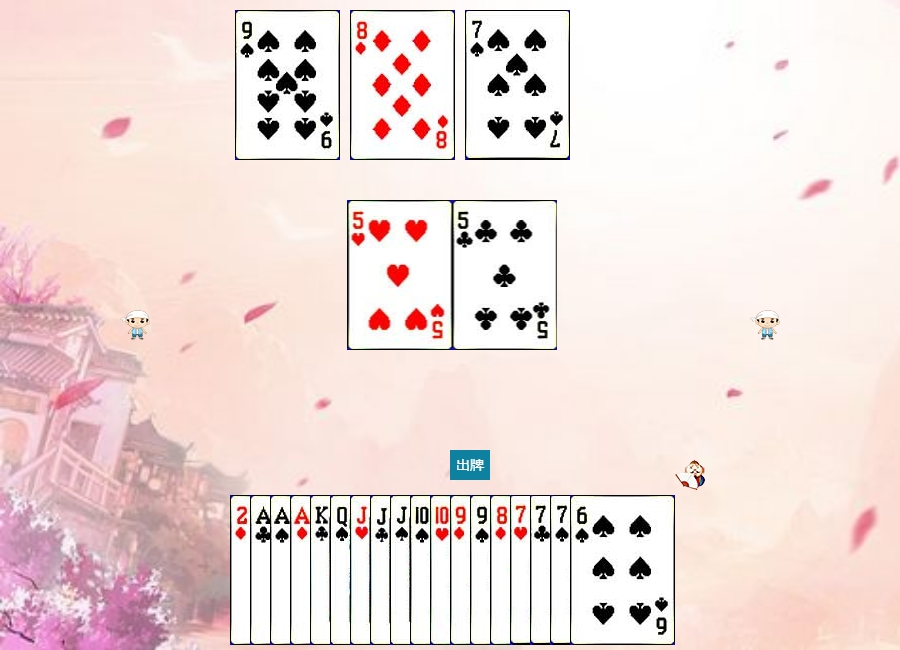10~3: (430, 495, 535, 645)
10~4: (410, 495, 515, 645)
11~2: (370, 495, 475, 645)
11~3: (350, 495, 455, 645)
11~4: (390, 495, 495, 645)
12~4: (330, 495, 435, 645)
13~2: (310, 495, 415, 645)
14~1: (290, 495, 395, 645)
14~2: (250, 495, 355, 645)
14~4: (270, 495, 375, 645)
15~1: (230, 495, 335, 645)
5~2: (453, 200, 558, 350)
5~3: (348, 200, 453, 350)
6~4: (570, 495, 675, 645)
7~2: (530, 495, 635, 645)
7~3: (510, 495, 615, 645)
7~4: (465, 10, 570, 160), (550, 495, 655, 645)
8~1: (350, 10, 455, 160), (490, 495, 595, 645)
9~1: (450, 495, 555, 645)
9~4: (235, 10, 340, 160), (470, 495, 575, 645)
